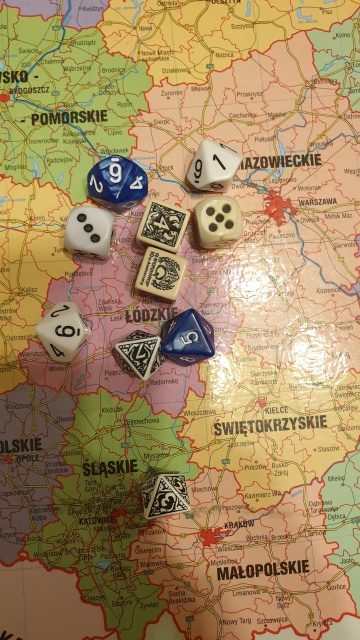d10-1: (186, 138, 241, 188)
d10-5: (165, 310, 216, 365)
d10-6: (35, 298, 97, 366), (83, 151, 148, 208)
d6-3: (63, 206, 113, 258)
d6-5: (196, 197, 242, 242)
d6p-4: (140, 199, 186, 249)
d6p-6: (137, 248, 188, 300)
d8p-3: (136, 468, 194, 522)
d8p-7: (109, 328, 163, 383)
